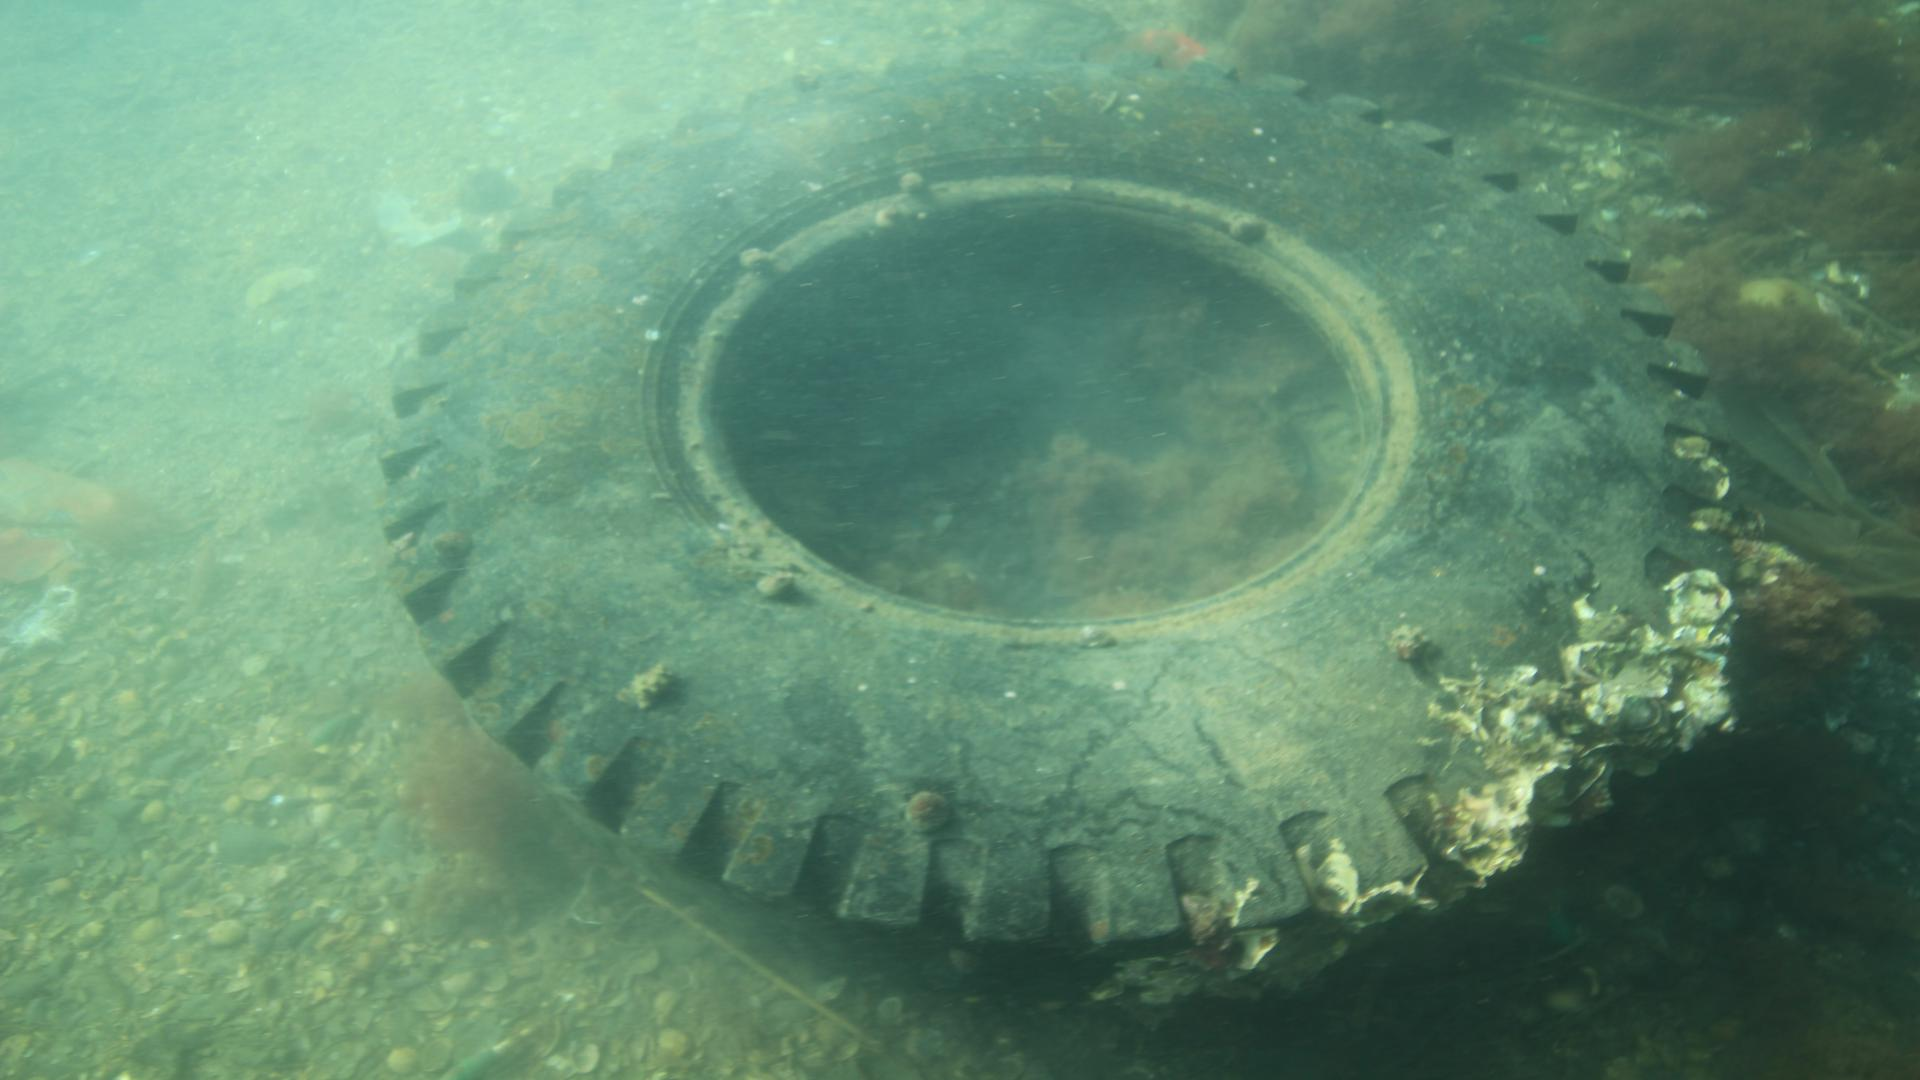tire: (376, 45, 1745, 998)
